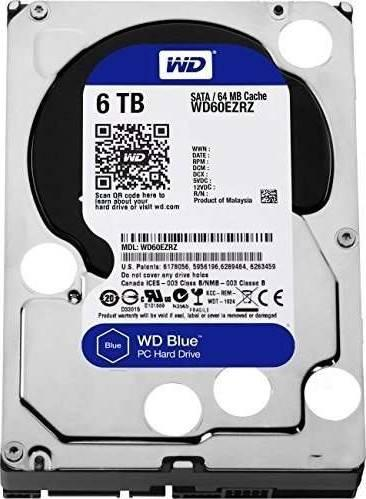internal HDD: (0, 0, 366, 499)
